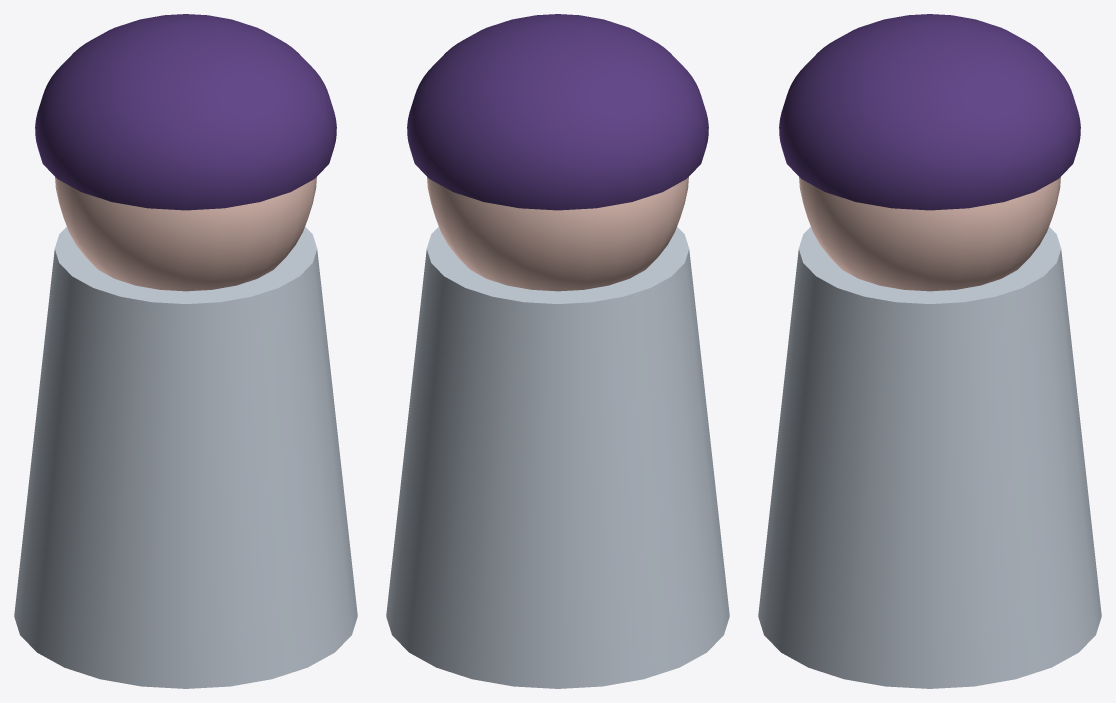
The model's file is mock-avatar-multi-material.glb.
The picture shows the model from 3 angles, left to right: view 1: azimuth 30°, elevation 25°; view 2: azimuth 150°, elevation 25°; view 3: azimuth 270°, elevation 25°; orthographic projection.
Parts seen in each view (by area): view 1: Body, Hair, Head; view 2: Body, Hair, Head; view 3: Body, Hair, Head.
Part boxes in pixels (x1,y1,x2,y2): Body: (14, 227, 357, 688); Hair: (35, 14, 336, 210); Head: (55, 177, 316, 291); Body: (386, 227, 729, 688); Hair: (407, 14, 708, 210); Head: (427, 177, 688, 291); Body: (758, 227, 1101, 688); Hair: (779, 14, 1080, 210); Head: (799, 177, 1060, 291).
Size of the model in its own units: 1.44 by 2.7 by 1.44.
